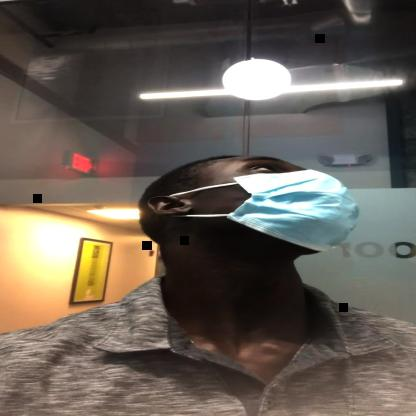mask: (143, 155, 357, 252)
